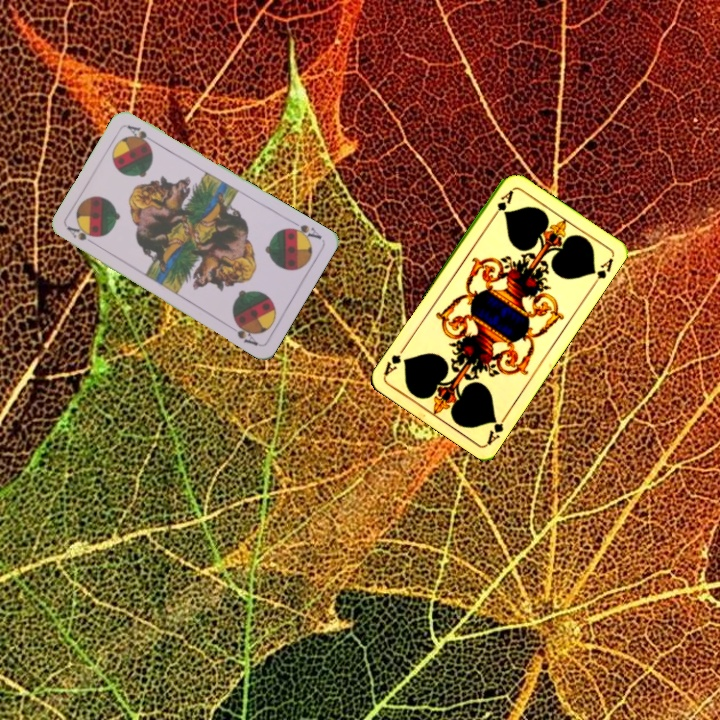GA: (483, 409, 510, 447), (488, 186, 516, 222)
SA: (284, 216, 325, 244), (63, 222, 101, 249)
